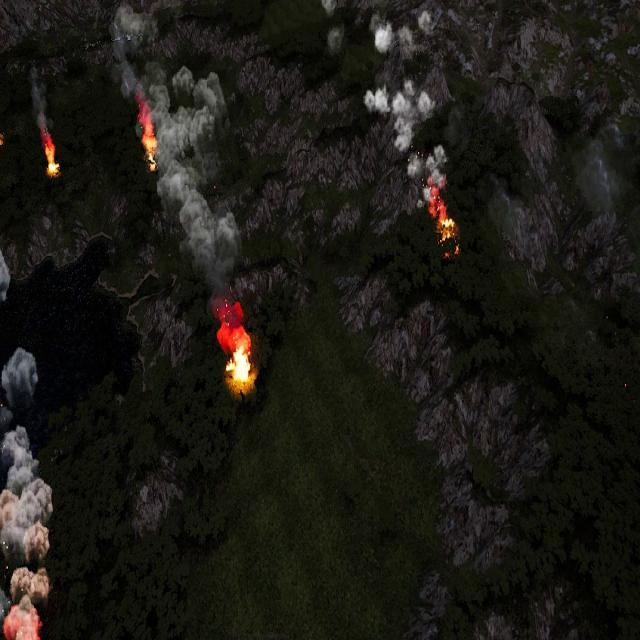fire: (428, 187, 457, 241), (228, 343, 255, 387), (42, 134, 58, 176), (141, 121, 157, 163)
smoke: (110, 2, 246, 353), (366, 6, 456, 216), (0, 346, 53, 640), (576, 130, 624, 225), (27, 62, 47, 141), (319, 1, 346, 58), (0, 245, 12, 303)
